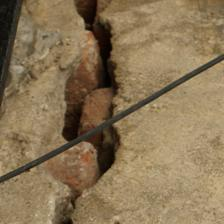Crack: (47, 3, 129, 201)
